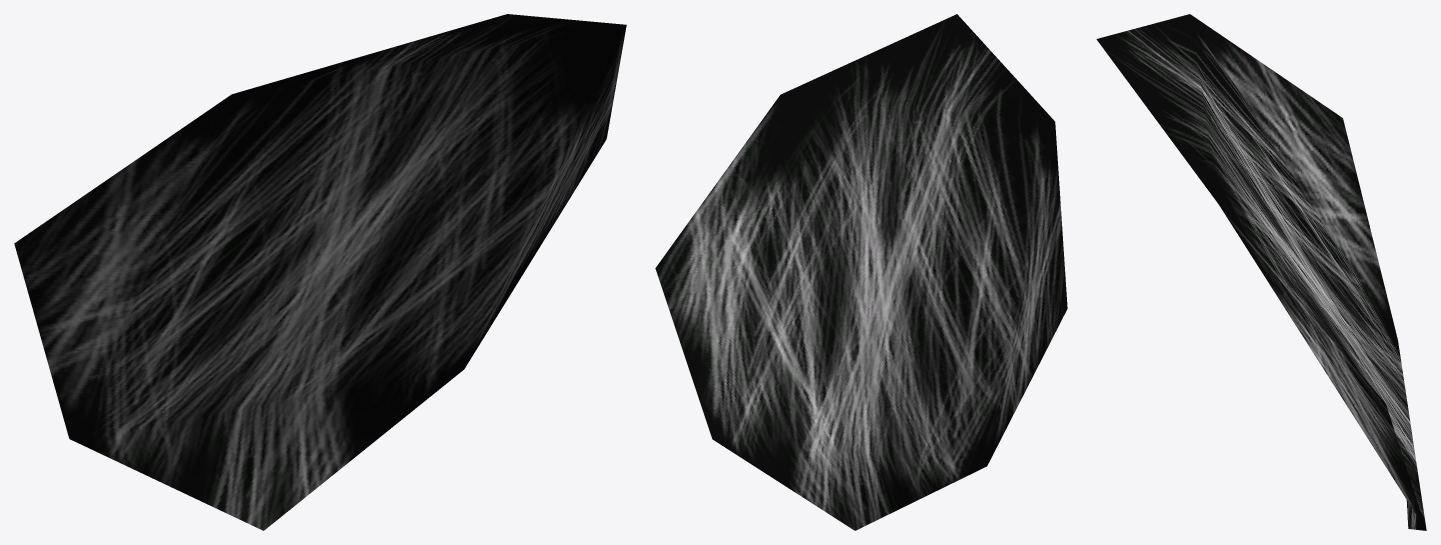
File: MIRKWOOD_SPIDERWEB_COVERS20.fbx
The picture shows the model from 3 angles, left to right: view 1: azimuth 30°, elevation 25°; view 2: azimuth 150°, elevation 25°; view 3: azimuth 270°, elevation 25°; orthographic projection. The views are drawn at different scales.
Visible parts, largest first — view 1: MIRKWOOD_SPIDERWEB_COVERS20; view 2: MIRKWOOD_SPIDERWEB_COVERS20; view 3: MIRKWOOD_SPIDERWEB_COVERS20.
Part boxes in pixels (box(x1,y1,x2,y2)): MIRKWOOD_SPIDERWEB_COVERS20: box(14, 14, 626, 530); MIRKWOOD_SPIDERWEB_COVERS20: box(655, 14, 1067, 530); MIRKWOOD_SPIDERWEB_COVERS20: box(1096, 14, 1426, 530).
Bounding box in the file's own units: 16474 × 16617 × 9844.
1 material, 1 textured.
